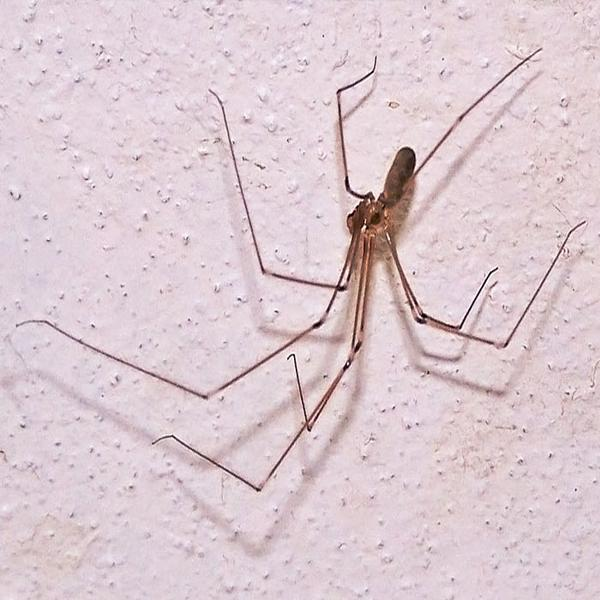Daddy Long Legs Spider: (28, 47, 586, 486)
